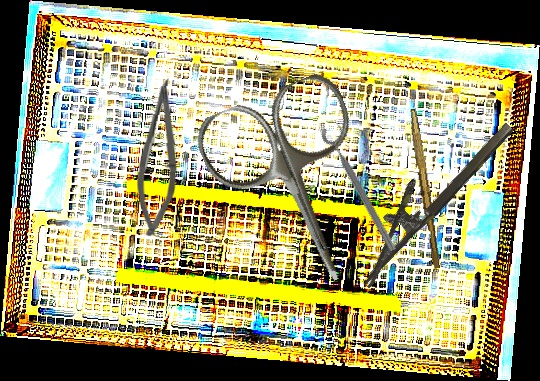Fixation Ring: (318, 121, 407, 254)
Iris Scissors: (189, 67, 405, 310)
Micro Scissor: (135, 77, 180, 238)
Needle Holder: (337, 102, 516, 289)
Scalpel Handle: (405, 108, 444, 269)
